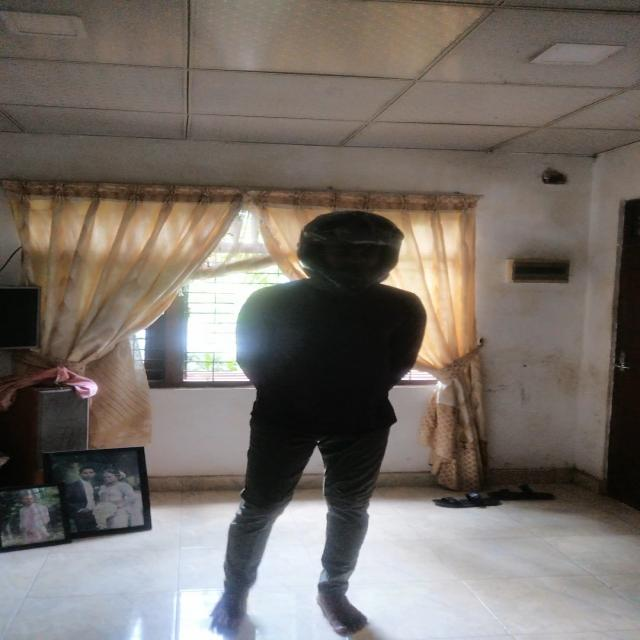Helmet_Wearer: (271, 211, 421, 287)
Person: (210, 211, 420, 630)
